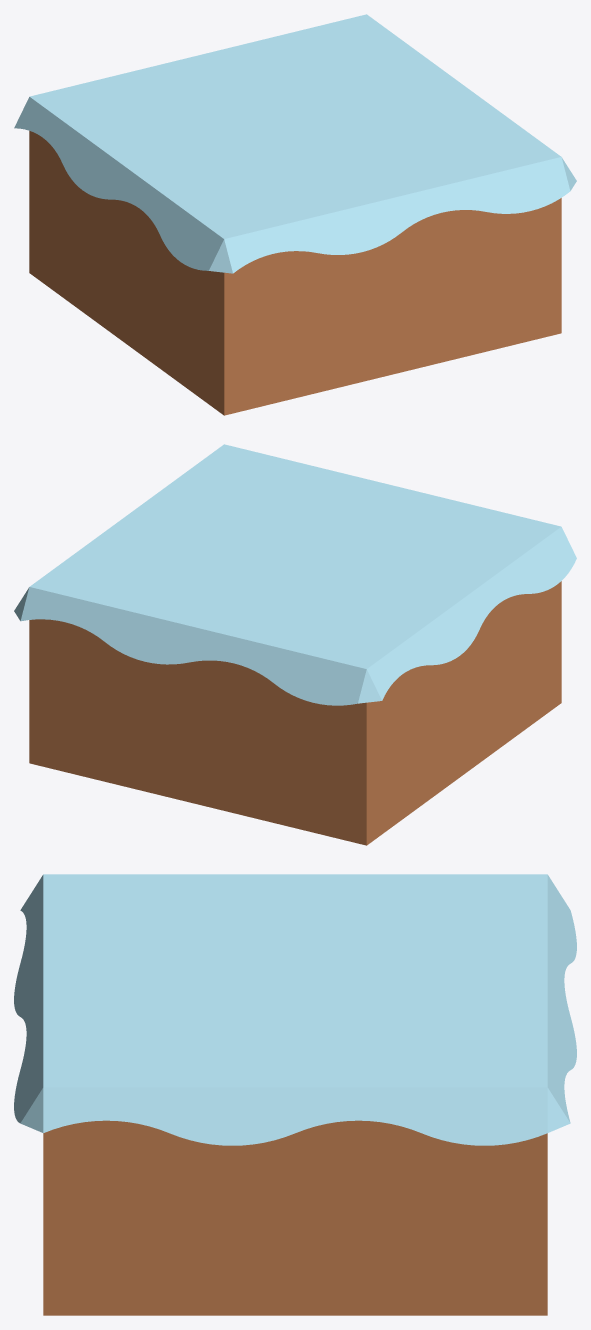
Rendered from blockSnowLarge.glb.
3 views of the same model, one above another, from view 1: azimuth 30°, elevation 25°; view 2: azimuth 150°, elevation 25°; view 3: azimuth 270°, elevation 25° (orthographic). The views are drawn at different scales.
Parts seen in each view (by area): view 1: blockSnowLarge; view 2: blockSnowLarge; view 3: blockSnowLarge.
Part boxes in pixels (<box>): blockSnowLarge: <box>14,14,576,415</box>; blockSnowLarge: <box>14,444,576,845</box>; blockSnowLarge: <box>14,874,576,1315</box>.
Size of the model in its own units: 2.23 by 1 by 2.23.
